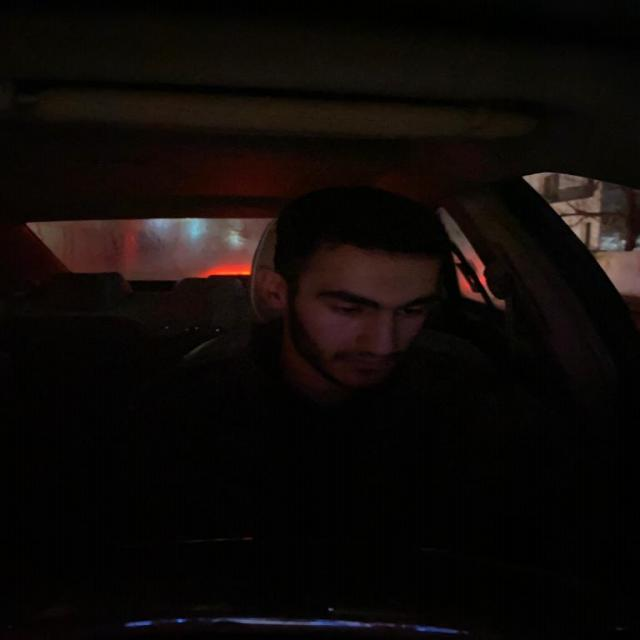person: (271, 200, 449, 386)
